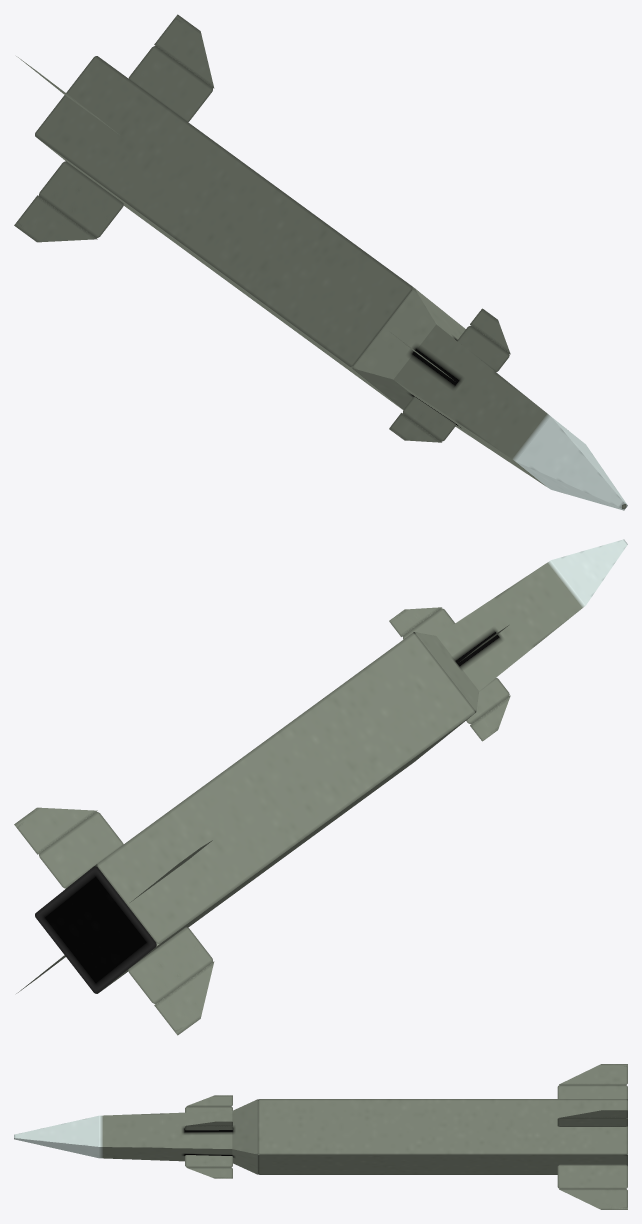
File: mgm31.obj
3 renders of one model, top to bottom at view 1: azimuth 30°, elevation 25°; view 2: azimuth 150°, elevation 25°; view 3: azimuth 270°, elevation 25°, orthographic. The views are drawn at different scales.
Visible parts, largest first — view 1: mesh.007, mesh.008, mesh.009, mesh.011, mesh.015, mesh.013; view 2: mesh.007, mesh.008, mesh.009, mesh.011, mesh.013, mesh.015; view 3: mesh.007, mesh.008, mesh.010, mesh.012, mesh.011, mesh.016, mesh.014, mesh.015.
Boxes of the visible parts, left/top/right/bottom form: mesh.007: left=35, top=56, right=414, bottom=409; mesh.008: left=352, top=288, right=627, bottom=510; mesh.009: left=14, top=161, right=123, bottom=242; mesh.011: left=128, top=14, right=214, bottom=121; mesh.015: left=457, top=308, right=510, bottom=372; mesh.013: left=389, top=396, right=455, bottom=442; mesh.007: left=35, top=633, right=474, bottom=993; mesh.008: left=413, top=539, right=627, bottom=712; mesh.009: left=128, top=927, right=214, bottom=1035; mesh.011: left=14, top=807, right=123, bottom=888; mesh.013: left=466, top=677, right=510, bottom=741; mesh.015: left=389, top=607, right=455, bottom=639; mesh.007: left=258, top=1099, right=627, bottom=1174; mesh.008: left=14, top=1099, right=257, bottom=1174; mesh.010: left=557, top=1164, right=627, bottom=1209; mesh.012: left=557, top=1064, right=627, bottom=1099; mesh.011: left=557, top=1110, right=627, bottom=1126; mesh.016: left=185, top=1155, right=232, bottom=1178; mesh.014: left=185, top=1095, right=232, bottom=1112; mesh.015: left=185, top=1121, right=232, bottom=1130.
Bounding box in the file's own units: 2.35 × 2.35 × 13.12.
